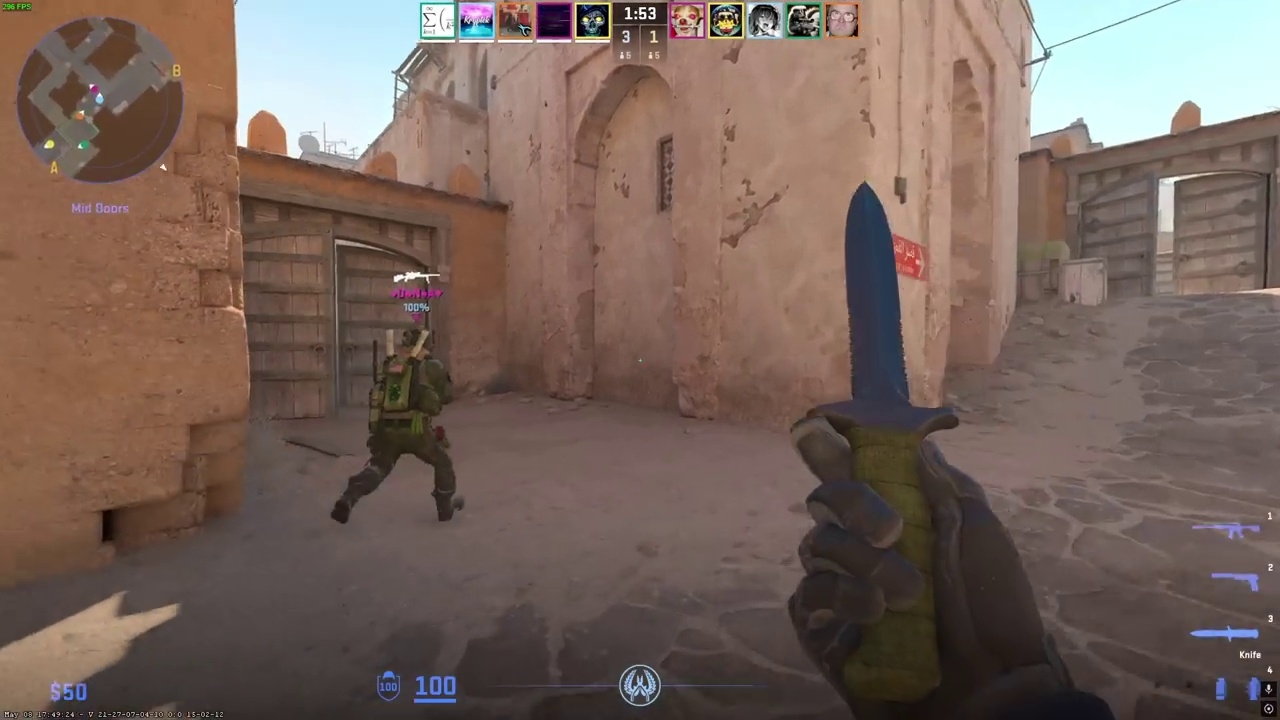CT: (342, 327, 461, 524)
